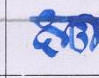i_matra: (84, 14, 99, 50)
